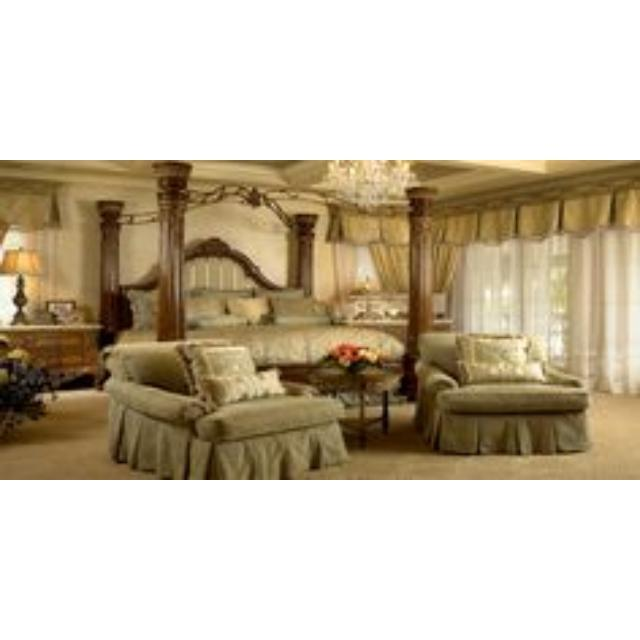bed: (99, 162, 434, 396)
chair: (106, 341, 345, 479), (420, 334, 588, 454)
curtain: (434, 181, 640, 392), (329, 205, 410, 291)
lamp: (0, 250, 41, 324)
table: (309, 344, 400, 447), (0, 324, 100, 413)
